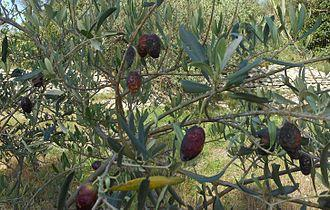Anthracnose: (178, 124, 207, 162), (74, 182, 100, 210), (279, 119, 302, 150), (137, 33, 162, 60), (126, 71, 144, 96), (298, 155, 313, 176), (20, 96, 32, 114)
